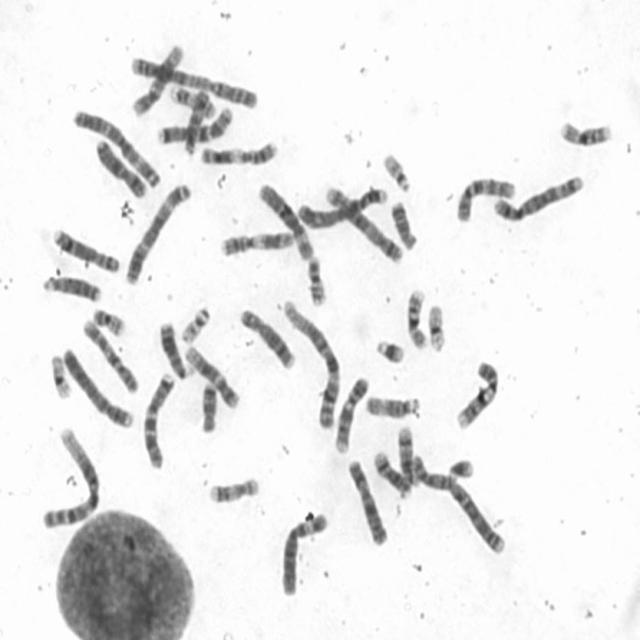A1: (282, 300, 341, 432), (41, 428, 102, 530)
A2: (411, 454, 508, 556), (132, 56, 259, 110)
A3: (71, 109, 162, 190), (123, 182, 192, 286)
B4: (62, 346, 134, 429), (298, 186, 388, 233)
B5: (324, 186, 404, 264), (494, 175, 586, 224)
C10: (82, 319, 141, 395), (455, 176, 517, 224)
C11: (200, 140, 280, 169), (217, 231, 296, 256)
C12: (132, 43, 186, 118), (183, 344, 241, 411)
C6: (278, 508, 328, 600), (258, 182, 314, 262)
C7: (142, 372, 175, 469), (158, 105, 233, 146)
C8: (240, 308, 297, 372), (53, 226, 120, 274)
C9: (452, 360, 500, 433), (334, 376, 370, 455)
D13: (158, 320, 196, 380), (42, 275, 102, 304)
D14: (373, 450, 413, 500), (396, 425, 421, 488)
D15: (183, 88, 210, 157), (364, 394, 426, 424)
E16: (559, 116, 613, 150), (407, 289, 427, 351)
E17: (206, 477, 261, 508), (171, 85, 217, 121)
E18: (389, 200, 419, 252), (199, 383, 218, 435)
F19: (47, 352, 72, 401), (427, 304, 448, 356)
F20: (304, 256, 328, 307), (92, 307, 126, 338)
G21: (376, 338, 407, 367), (446, 458, 475, 486)
G22: (382, 153, 414, 196), (180, 305, 211, 345)
X: (346, 458, 389, 548), (94, 139, 148, 200)
